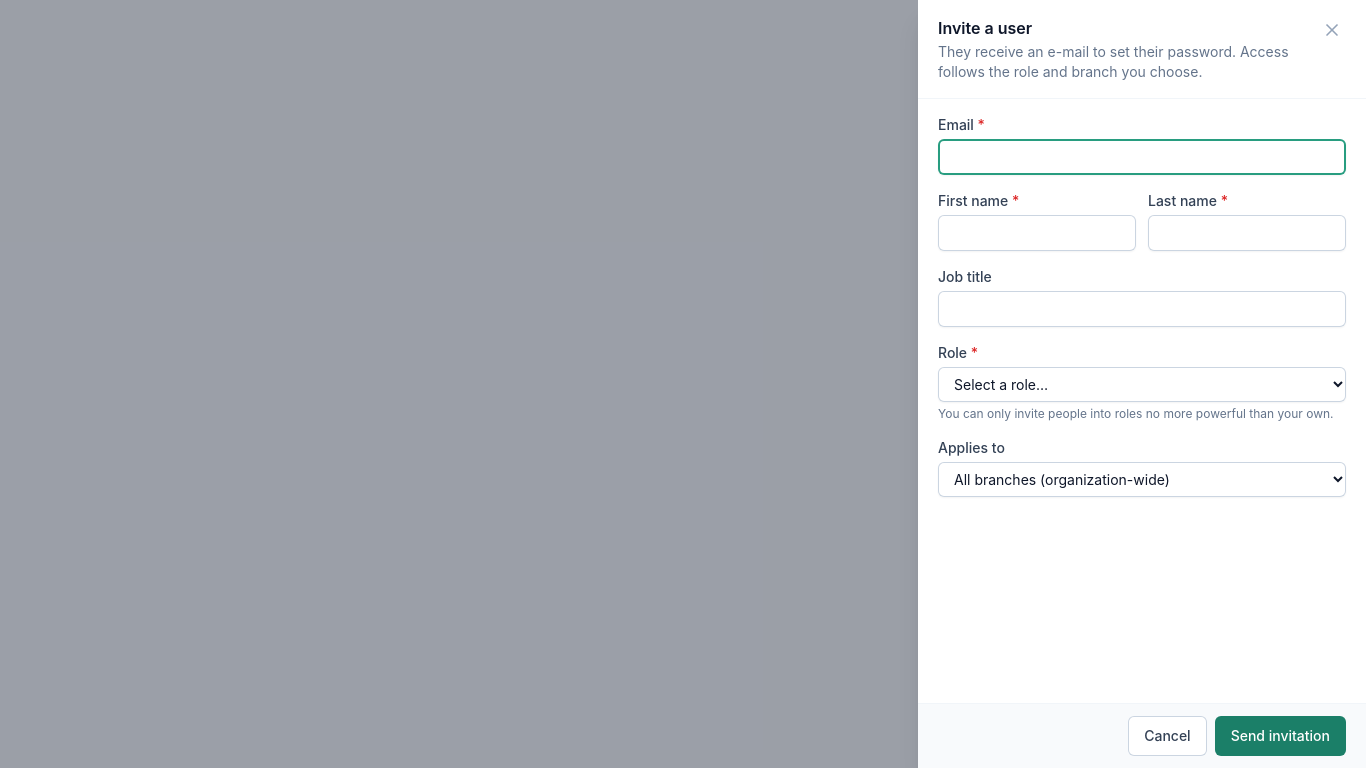
Test case: InviteUserDialog › validates before sending
Click the button "Send invitation" at (1280, 736), box [1215, 716, 1346, 756]
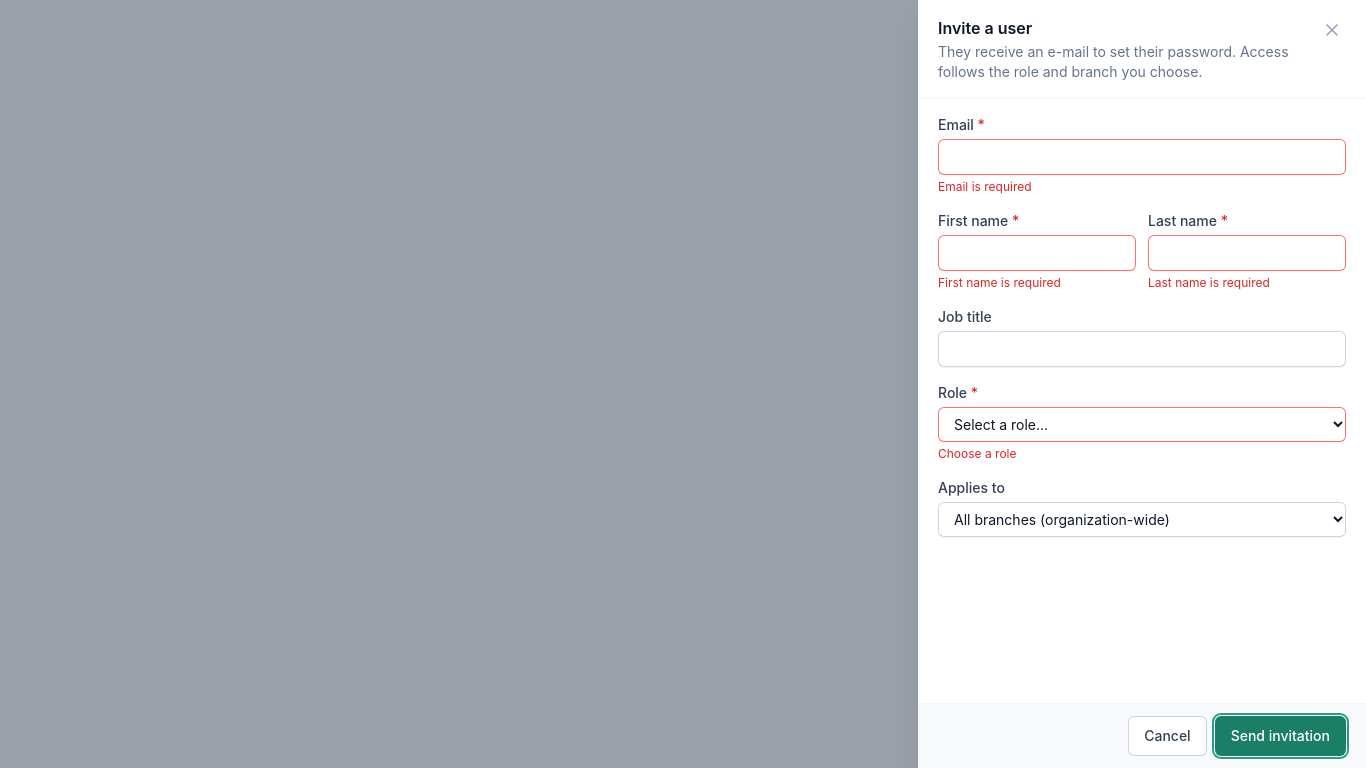
Expected: the text "Email is required" is shown, [938, 179, 1032, 194]
Expected: the text "Choose a role" is shown, [938, 446, 1016, 461]
